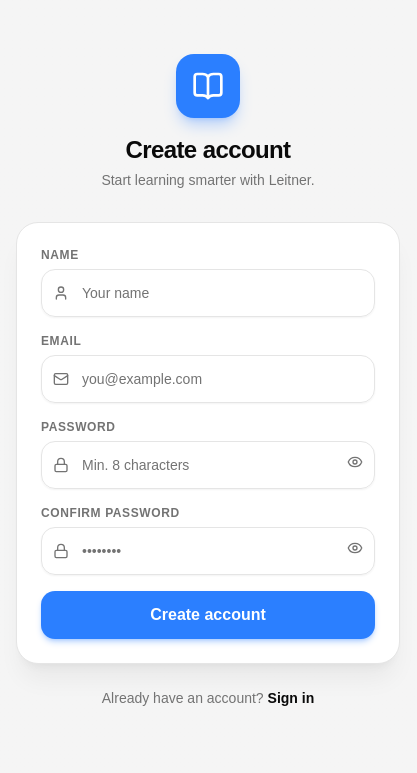
SignUpPage › email validation › shows error for an invalid email format
Type "not-an-email" into the field with placeholder "you@example.com". click: x=208, y=379
box: [41,355,375,403]
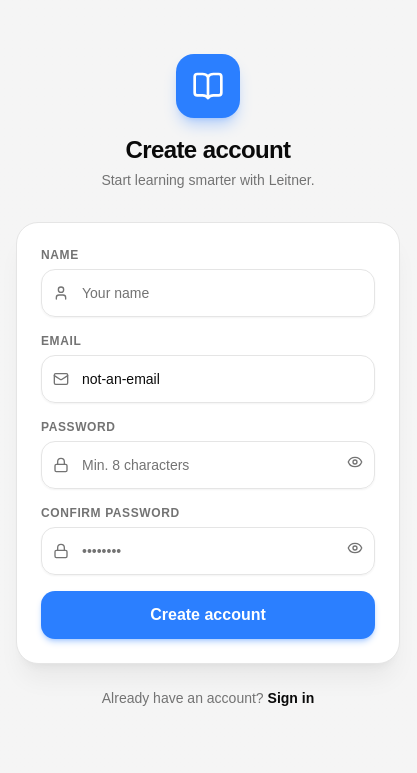
Click the button "Create account". click: x=208, y=615
box: [41,591,375,639]
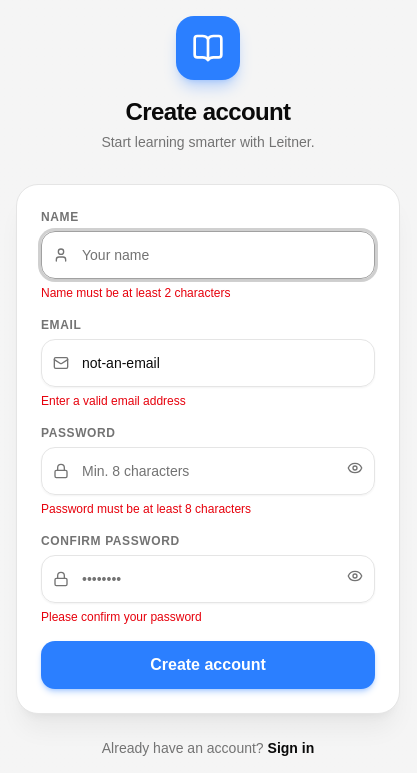
Expected: the text "Enter a valid email address" is shown, [41,394,186,408]
